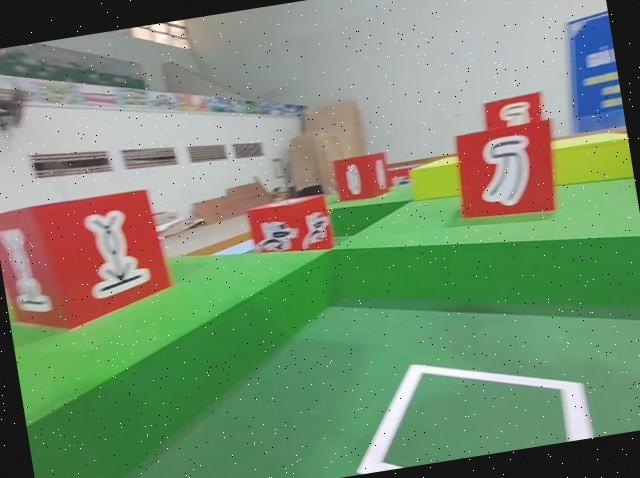R1: (242, 188, 338, 265)
R2 Fake: (442, 118, 564, 229)
R2 Real: (0, 182, 174, 339), (330, 152, 392, 203)
